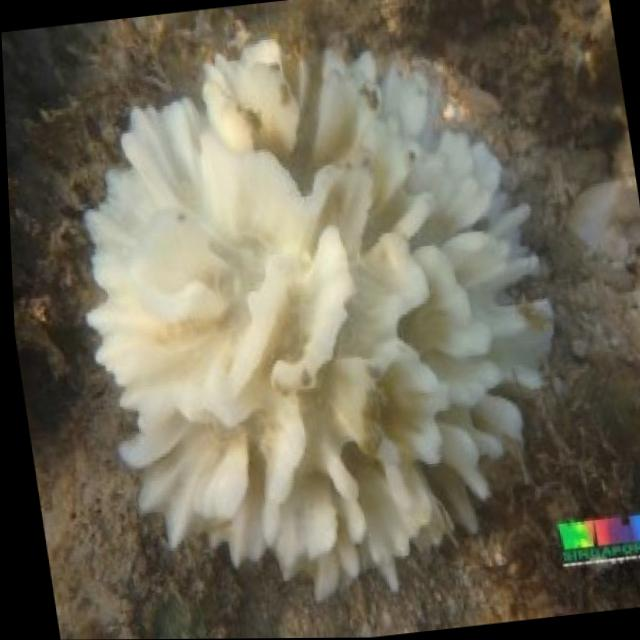Bleached Coral: (9, 0, 586, 619)
